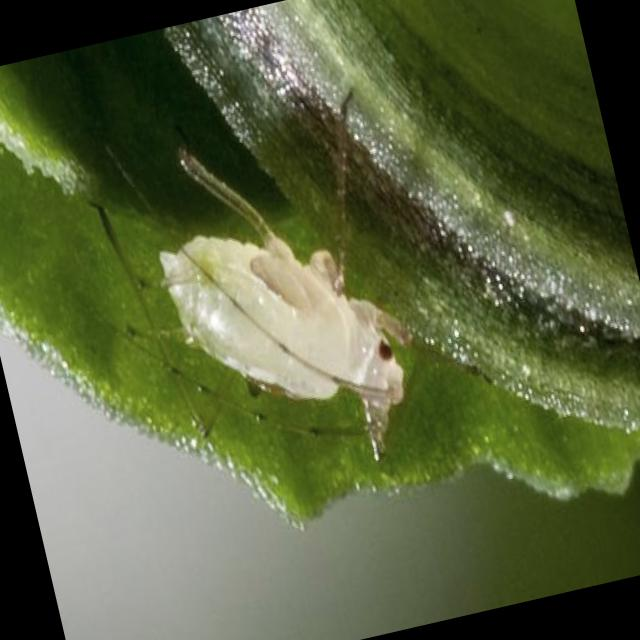Aphids: (48, 80, 484, 534)
